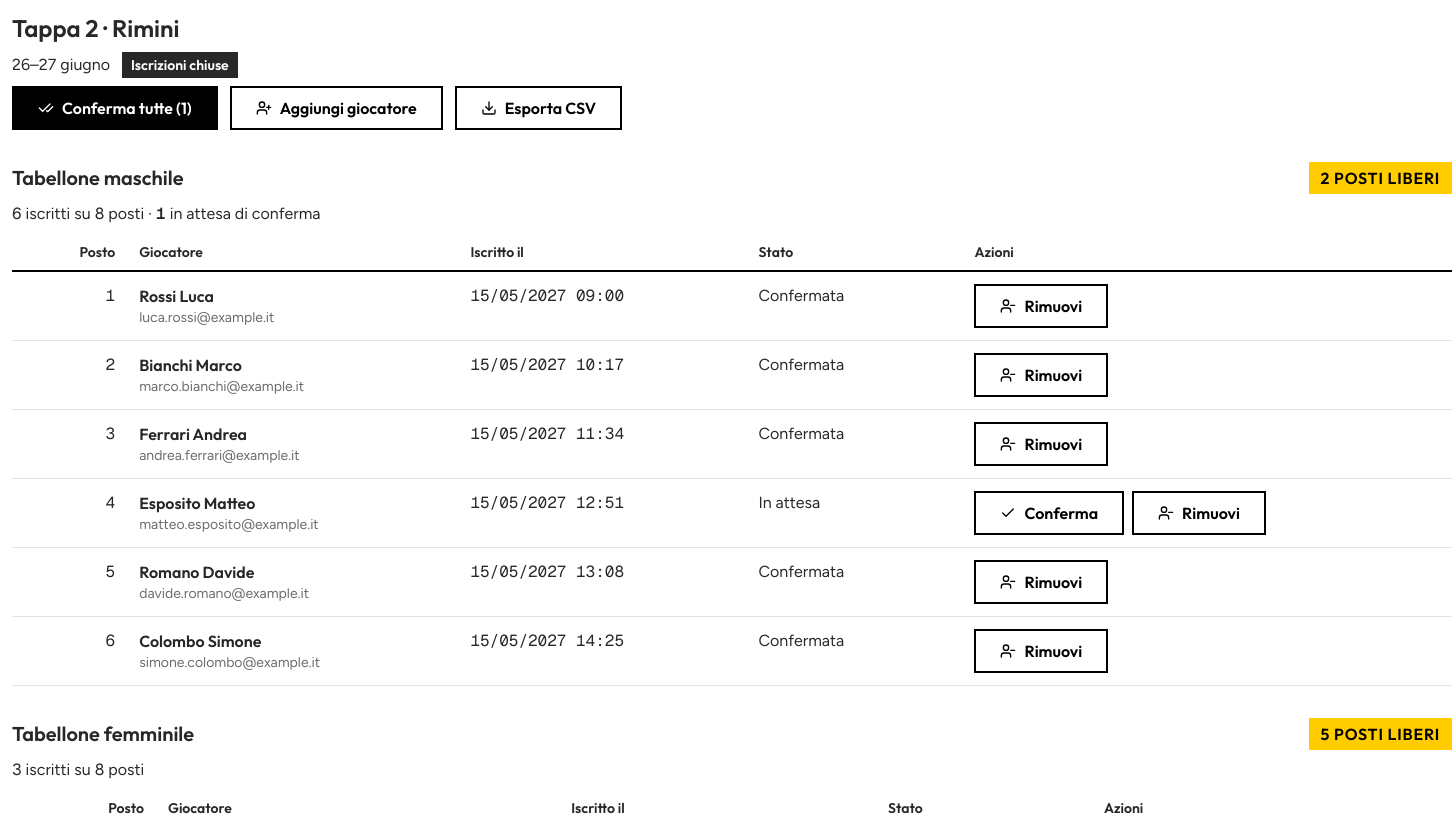
Test: IscrittiTappa (w-admin-iscritti) › un errore della conferma di una riga è annunciato nel suo tabellone
Click the button "Conferma ". click: (1049, 513)
box: [974,491,1124,535]
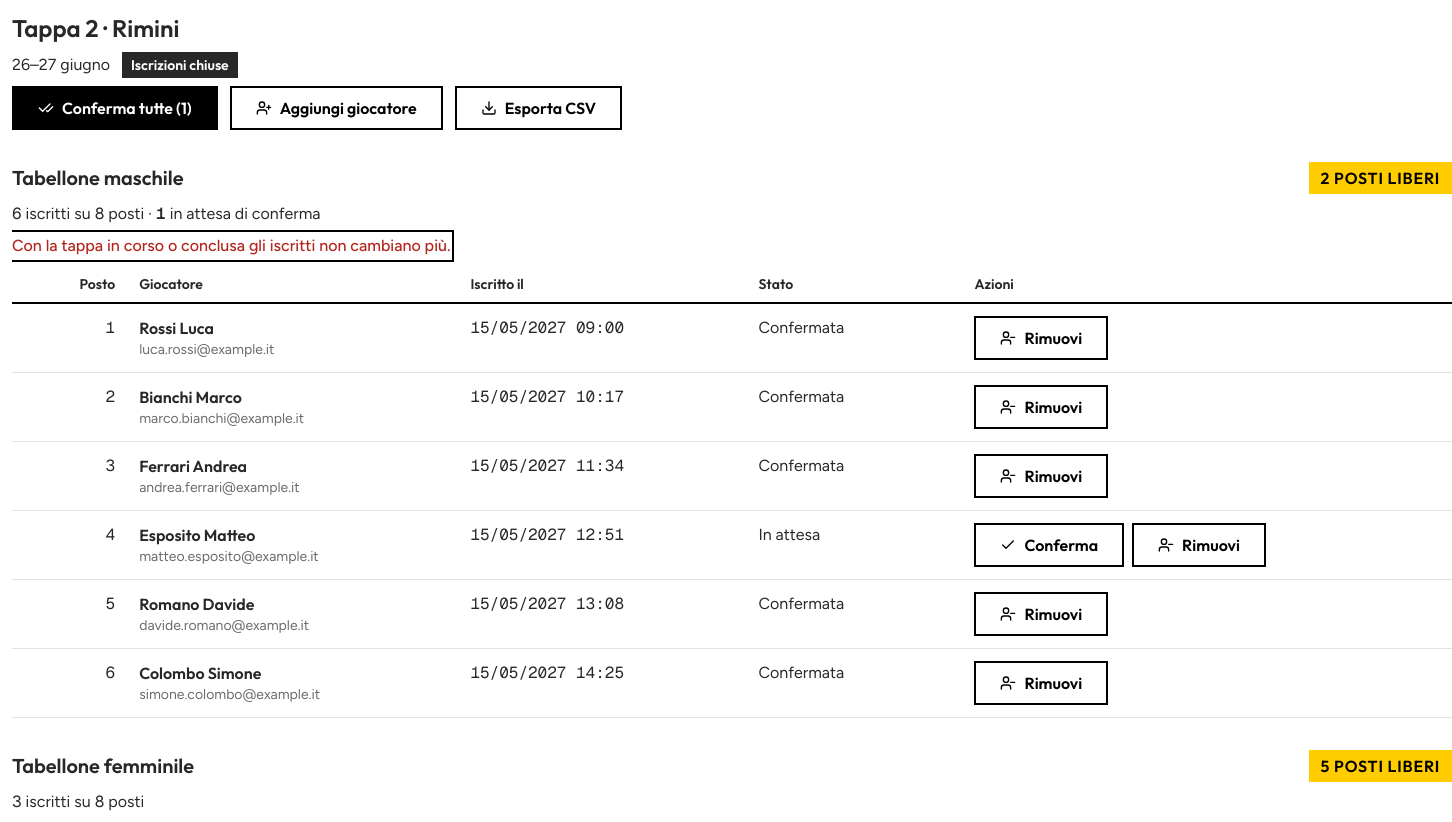
Check: the message shows "gli iscritti non cambiano più", box [12,236,450,255]
